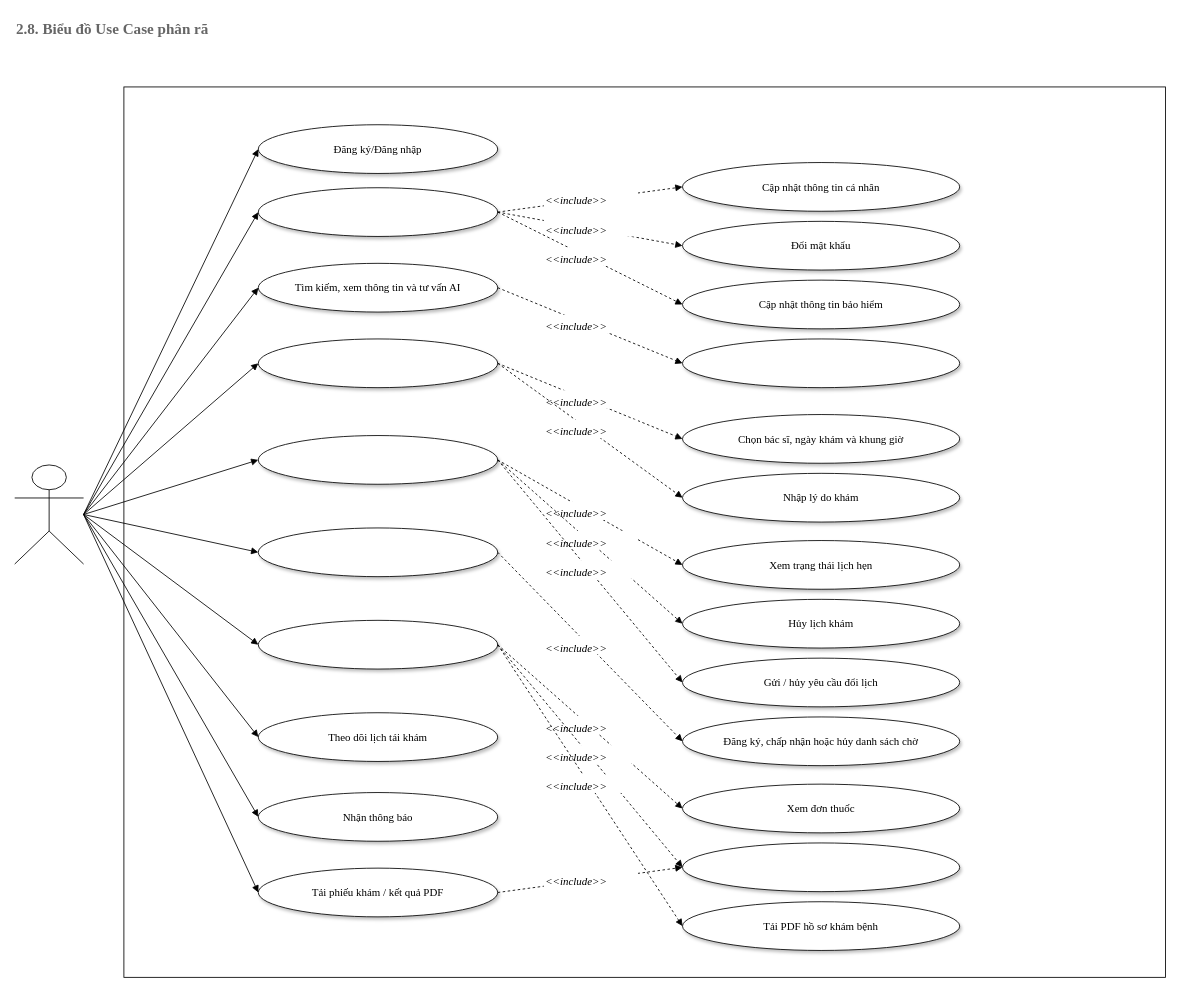
Some shapes in this 1180 by 992 pixel diagram are drawn without their labels. The shapes that lost their labels are listed below. From the top down, each one's centre as x and y in pixels, then its label:
the point at 378,213: Quản lý tài khoản cá nhân
the point at 378,364: Đặt lịch khám
the point at 821,364: Tư vấn triệu chứng AI
the point at 378,460: Quản lý lịch hẹn của tôi
the point at 49,514: Bệnh nhân
the point at 378,553: Quản lý danh sách chờ khám
the point at 378,645: Xem hồ sơ khám bệnh
the point at 821,868: Xem kết quả cận lâm sàng
